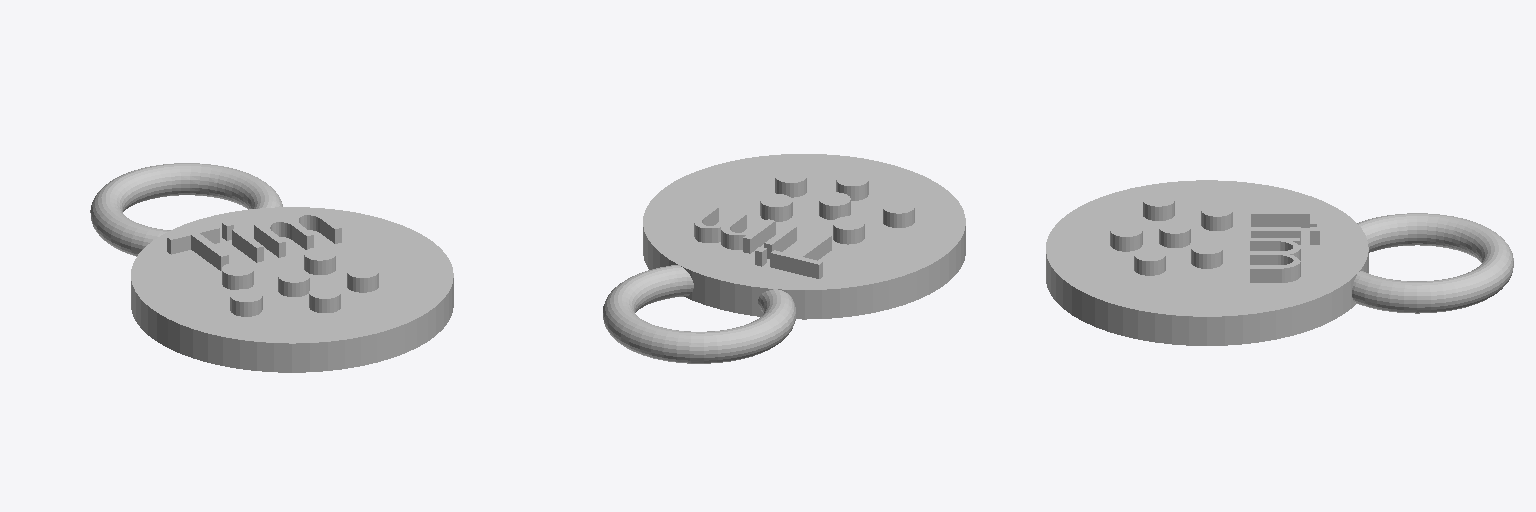
Rendered from Keychain.obj.
3 views of the same model, side by side, from view 1: azimuth 30°, elevation 25°; view 2: azimuth 150°, elevation 25°; view 3: azimuth 270°, elevation 25° (orthographic).
Visible parts, largest first — view 1: Object1, Object0, Object2, Object5, Object6, Object8, Object7, Object4, Object3; view 2: Object1, Object0, Object2, Object6, Object5, Object3, Object8, Object4, Object7; view 3: Object1, Object0, Object2, Object7, Object5, Object6, Object8, Object3, Object4.
Boxes of the visible parts, <box> form: Object1: <box>131,207,453,372</box>; Object0: <box>90,163,282,256</box>; Object2: <box>167,212,341,270</box>; Object5: <box>230,289,262,316</box>; Object6: <box>304,247,335,274</box>; Object8: <box>347,264,378,292</box>; Object7: <box>309,285,340,312</box>; Object4: <box>278,269,309,296</box>; Object3: <box>222,262,253,289</box>; Object1: <box>643,154,965,319</box>; Object0: <box>603,265,795,363</box>; Object2: <box>694,206,831,278</box>; Object6: <box>760,194,792,221</box>; Object5: <box>883,200,914,227</box>; Object3: <box>833,216,864,244</box>; Object8: <box>775,169,806,197</box>; Object4: <box>819,192,850,219</box>; Object7: <box>836,173,868,200</box>; Object1: <box>1046,180,1368,345</box>; Object0: <box>1352,213,1513,313</box>; Object2: <box>1250,200,1319,282</box>; Object7: <box>1110,224,1142,251</box>; Object5: <box>1143,193,1174,220</box>; Object6: <box>1191,241,1222,268</box>; Object8: <box>1134,248,1165,275</box>; Object3: <box>1201,203,1232,230</box>; Object4: <box>1159,220,1190,247</box>.
Size of the model in its own units: 29.97 by 4.51 by 43.5.